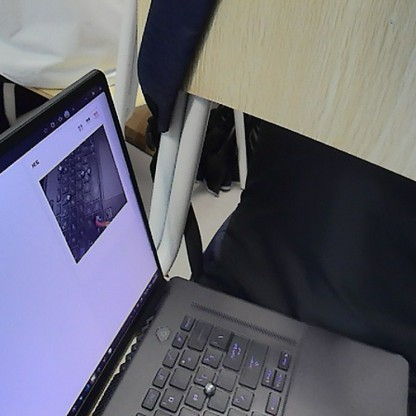ironball: (202, 380, 216, 395)
